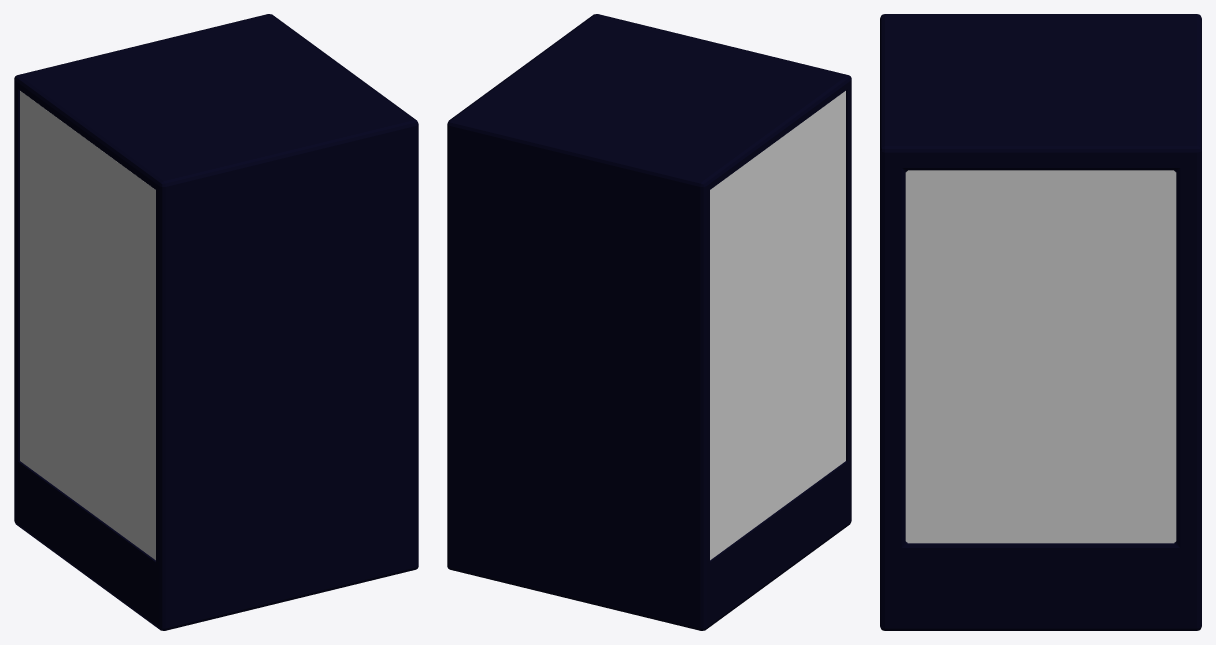
The model's file is PCStok.fbx.
3 renders of one model, left to right at view 1: azimuth 30°, elevation 25°; view 2: azimuth 150°, elevation 25°; view 3: azimuth 270°, elevation 25°, orthographic. The views are drawn at different scales.
Visible parts, largest first — view 1: Корпус, Куб; view 2: Корпус, Куб; view 3: Куб, Корпус.
Boxes of the visible parts, x1,y1,x2,y2 form: Корпус: (14, 14, 418, 630); Куб: (20, 91, 155, 560); Корпус: (447, 14, 851, 630); Куб: (710, 91, 845, 560); Куб: (905, 170, 1176, 543); Корпус: (880, 14, 1201, 630).
Bounding box in the file's own units: 200 × 332 × 200.
